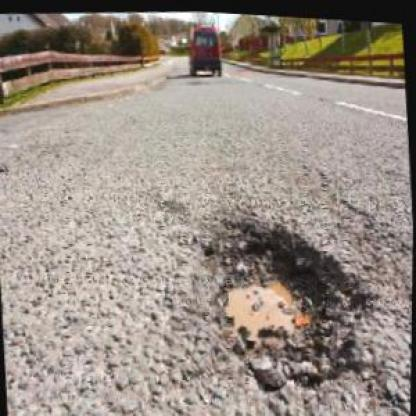pothole: (188, 202, 376, 405)
